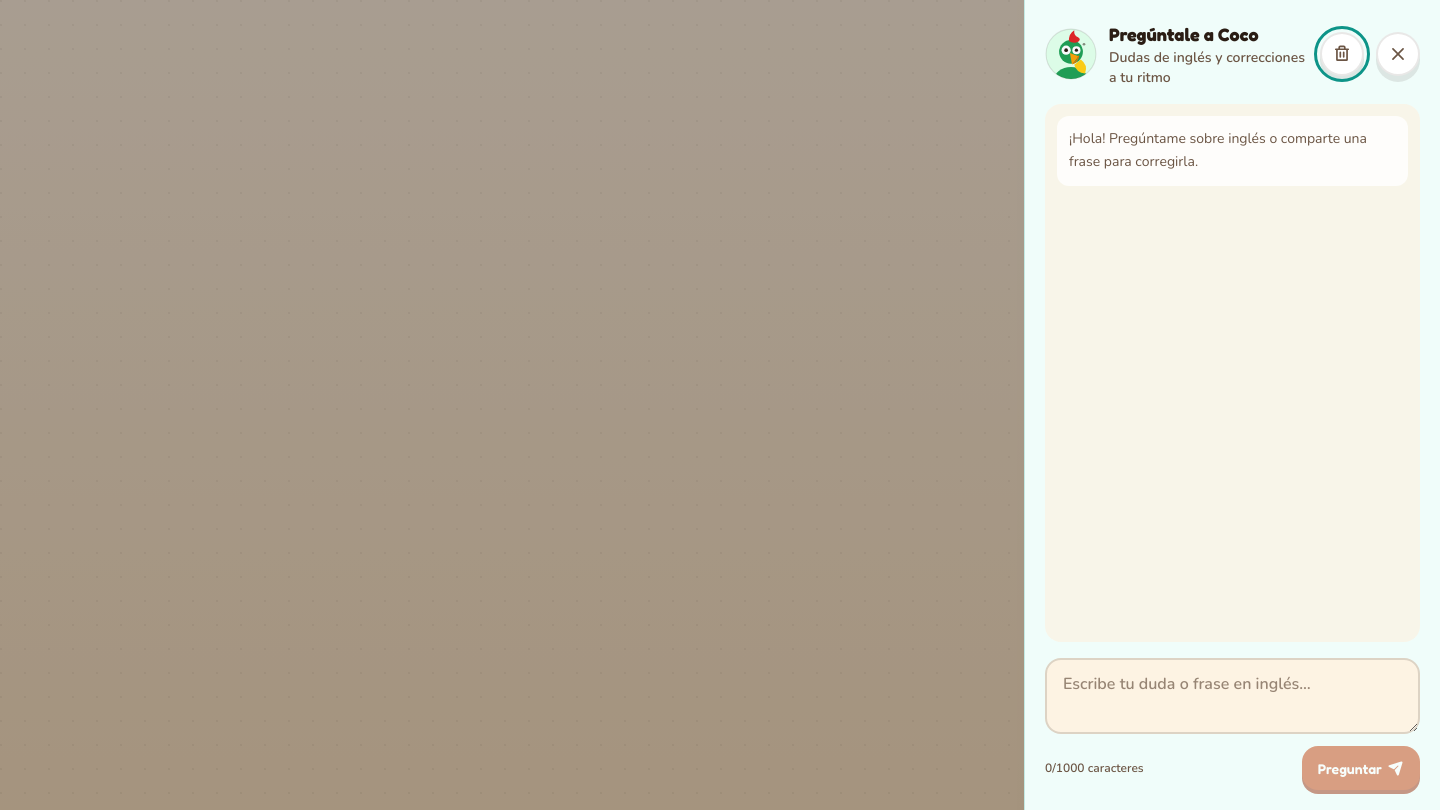
Test case: TutorPanel › sends question and shows structured correction and example
Type "Can you correct my sentence?" into the text box named "Tu pregunta para Coco". click: (1232, 696)
box: [1045,658,1420,734]
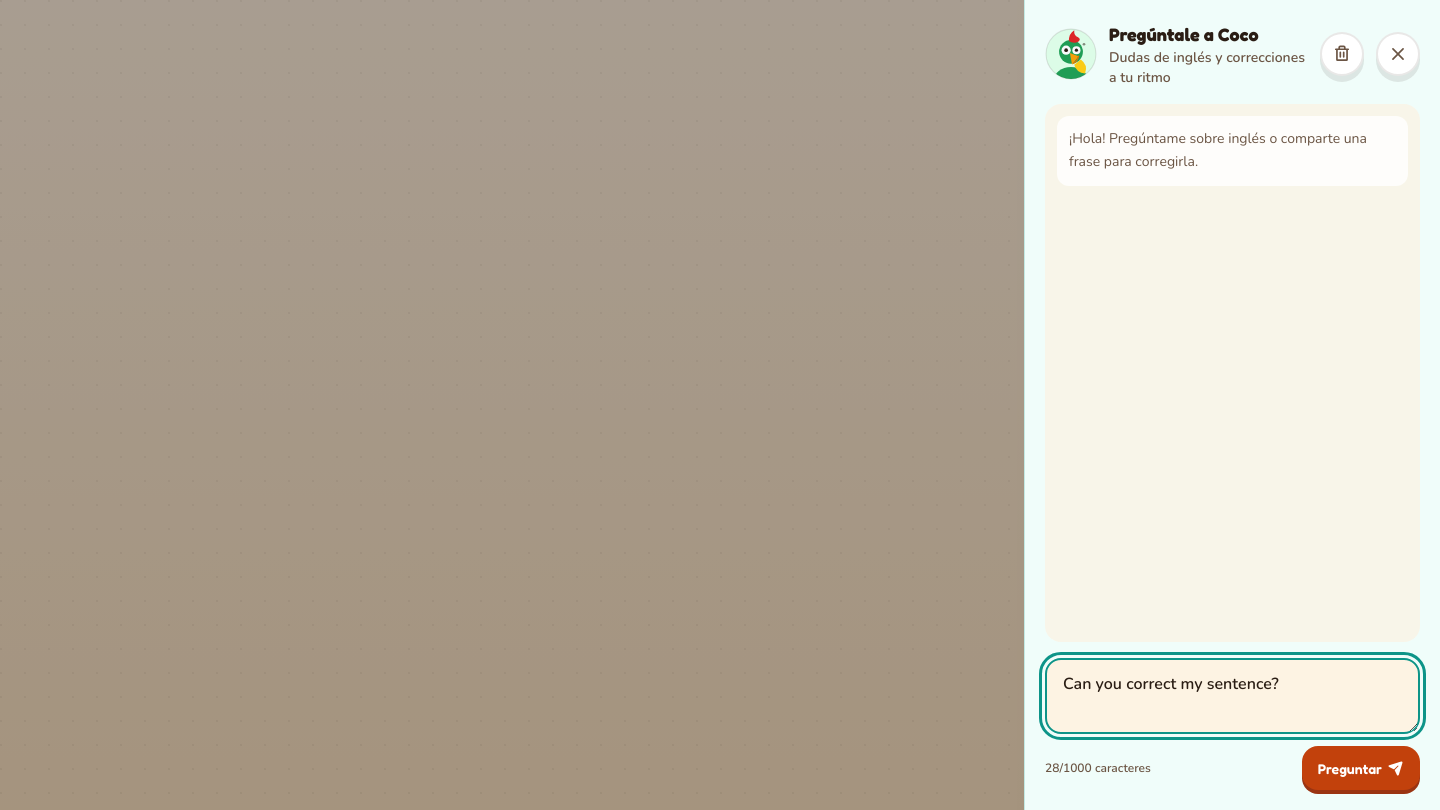
Click the button "Preguntar". click: (1361, 768)
box: [1302,746,1420,790]
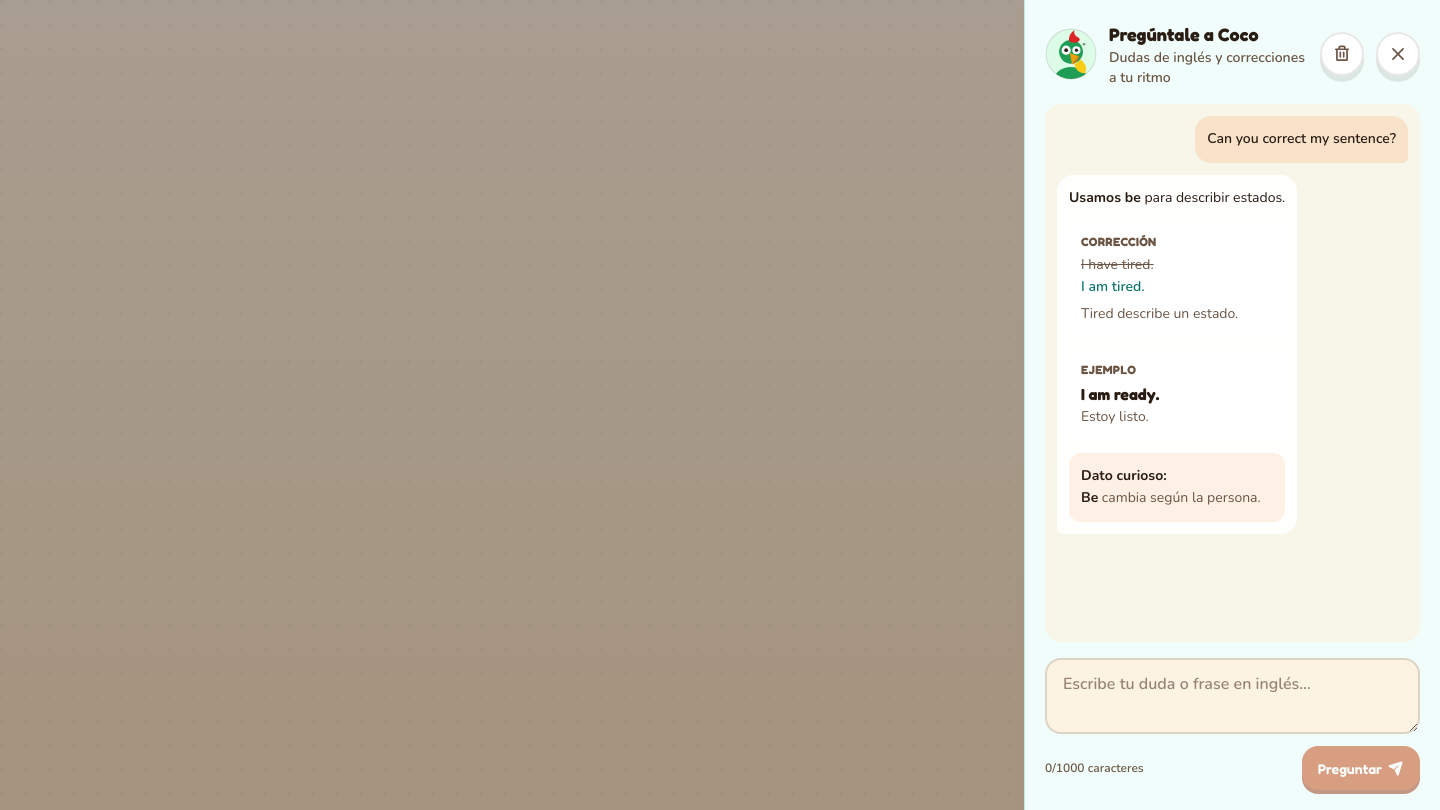
Result: the text "Usamos be" is shown at [1069,188,1141,207]
Result: the text "Be" is shown at [1081,488,1098,507]
Result: the text "I am tired." is shown at [1081,277,1145,296]
